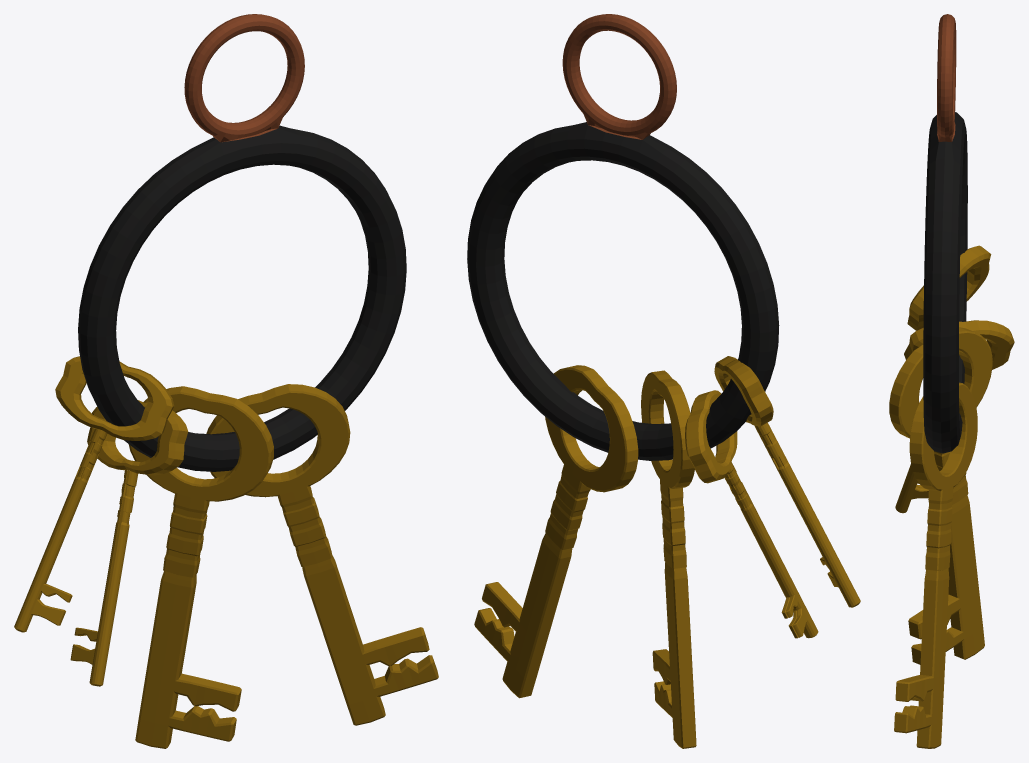
The model's file is KeyChainfbx.fbx.
The picture shows the model from 3 angles, left to right: view 1: azimuth 30°, elevation 25°; view 2: azimuth 150°, elevation 25°; view 3: azimuth 270°, elevation 25°; orthographic projection. The views are drawn at different scales.
Visible parts, largest first — view 1: KeyChain; view 2: KeyChain; view 3: KeyChain.
Boxes of the visible parts, x1,y1,x2,y2 form: KeyChain: (14, 14, 438, 748); KeyChain: (467, 14, 860, 748); KeyChain: (889, 14, 1014, 748).
Size of the model in its own units: 865 by 1472 by 247.
